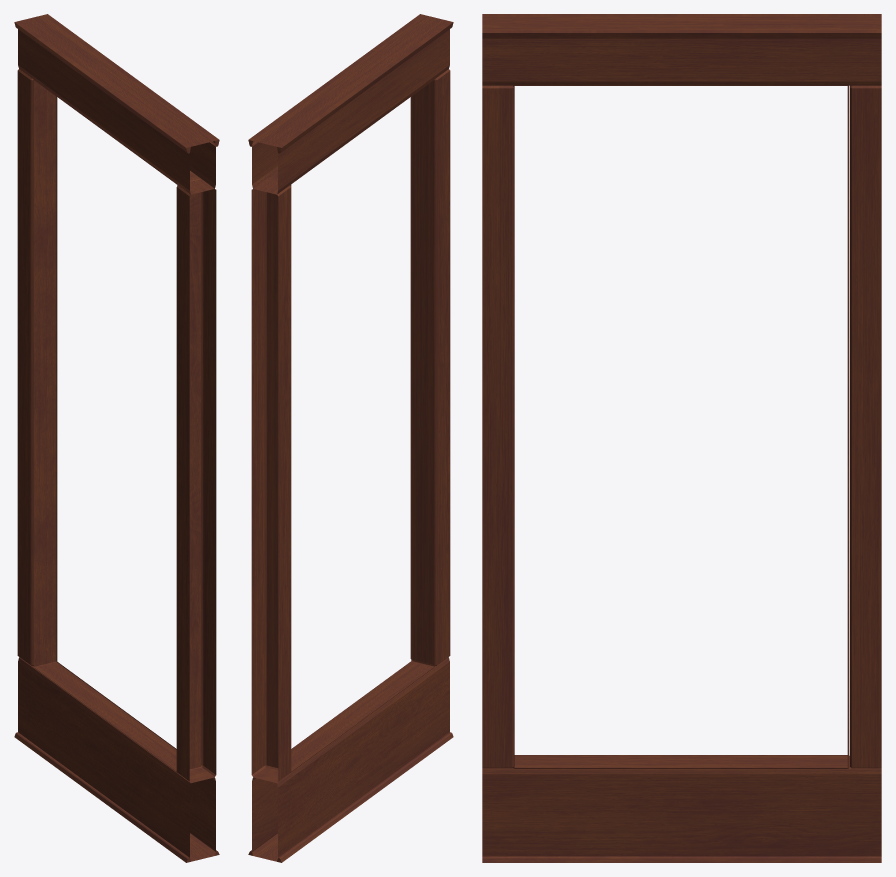
File: SM_VarnishWall01H.fbx
3 views of the same model, side by side, from view 1: azimuth 30°, elevation 25°; view 2: azimuth 150°, elevation 25°; view 3: azimuth 270°, elevation 25° (orthographic). The views are drawn at different scales.
Visible parts, largest first — view 1: SM_VarnishWall01H; view 2: SM_VarnishWall01H; view 3: SM_VarnishWall01H.
Part boxes in pixels (left/top/right/bottom): SM_VarnishWall01H: left=14, top=14, right=219, bottom=862; SM_VarnishWall01H: left=248, top=14, right=453, bottom=862; SM_VarnishWall01H: left=482, top=14, right=881, bottom=862.
Bounding box in the file's own units: 12.38 × 110 × 253.
